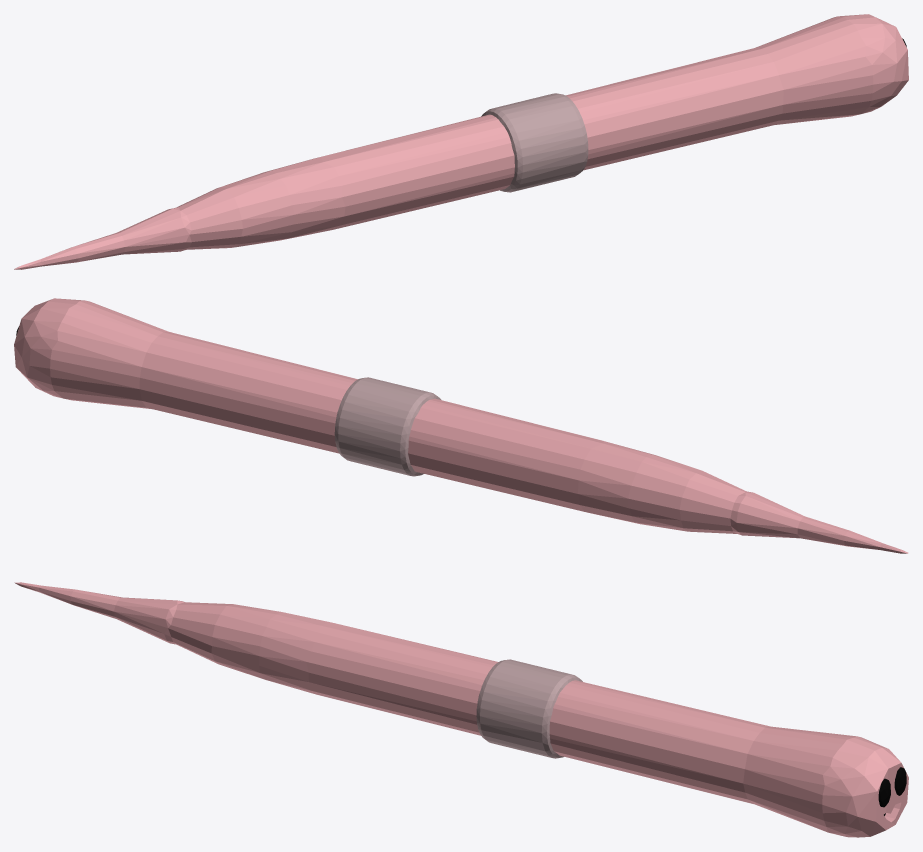
Rendered from worm.fbx.
3 views of the same model, one above another, from view 1: azimuth 30°, elevation 25°; view 2: azimuth 150°, elevation 25°; view 3: azimuth 330°, elevation 25° (orthographic).
Parts seen in each view (by area): view 1: Cylinder, Cylinder.001; view 2: Cylinder, Cylinder.001; view 3: Cylinder, Cylinder.001.
Part boxes in pixels (x1=…): Cylinder: x1=14, y1=14, x2=908, y2=269; Cylinder.001: x1=481, y1=93, x2=588, y2=192; Cylinder: x1=14, y1=298, x2=908, y2=553; Cylinder.001: x1=334, y1=377, x2=441, y2=476; Cylinder: x1=14, y1=582, x2=908, y2=837; Cylinder.001: x1=476, y1=659, x2=582, y2=758.
Size of the model in its own units: 2566 by 255 by 255.
